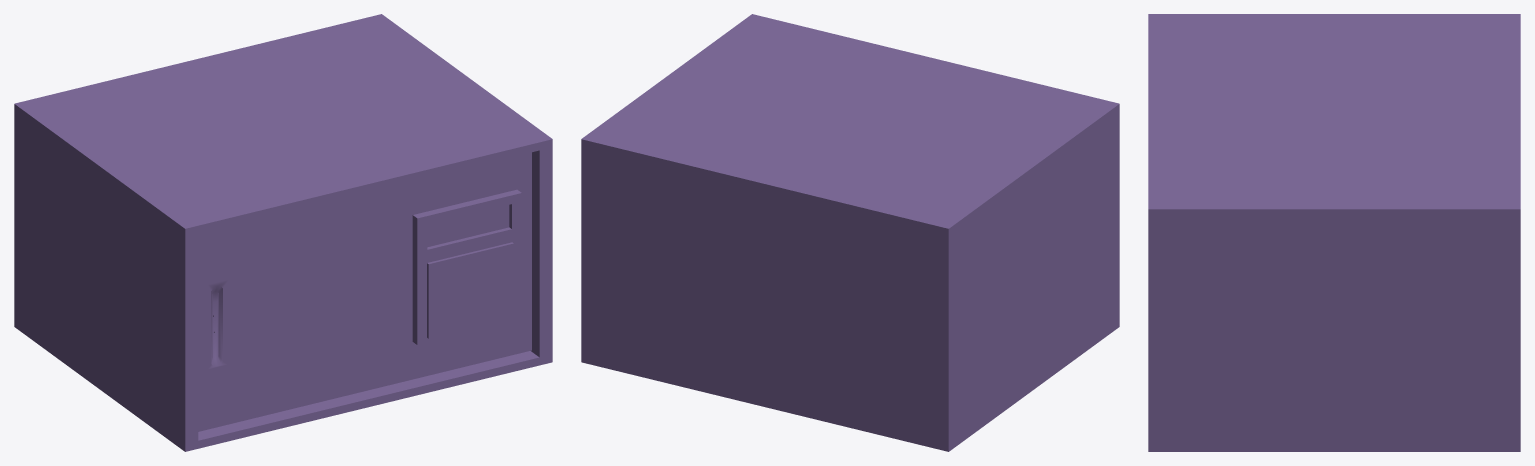
File: Caja fuerte .fbx
3 renders of one model, left to right at view 1: azimuth 30°, elevation 25°; view 2: azimuth 150°, elevation 25°; view 3: azimuth 270°, elevation 25°, orthographic. The views are drawn at different scales.
Parts seen in each view (by area): view 1: Caja Fuerte, Caja Fuerte.001; view 2: Caja Fuerte; view 3: Caja Fuerte.
Boxes of the visible parts, x1,y1,x2,y2 form: Caja Fuerte: [14, 14, 552, 451]; Caja Fuerte.001: [198, 152, 531, 431]; Caja Fuerte: [581, 14, 1119, 451]; Caja Fuerte: [1148, 14, 1520, 451].
Bounding box in the file's own units: 48.95 × 28.39 × 39.44.
